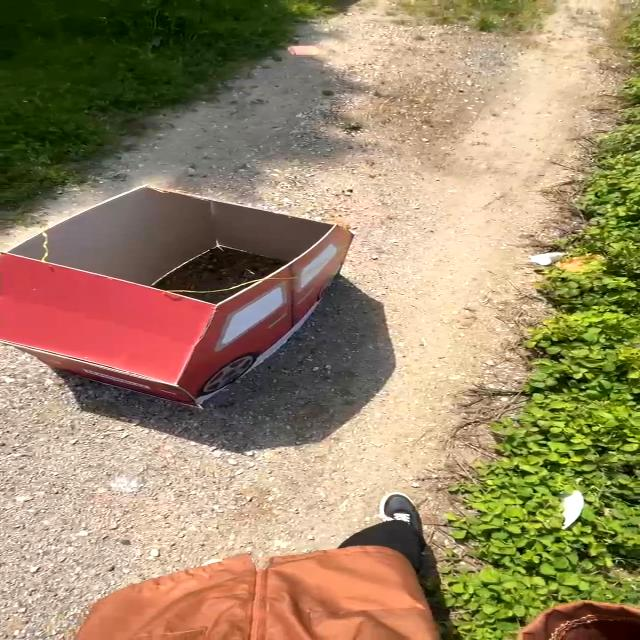red_car: (0, 176, 412, 422)
